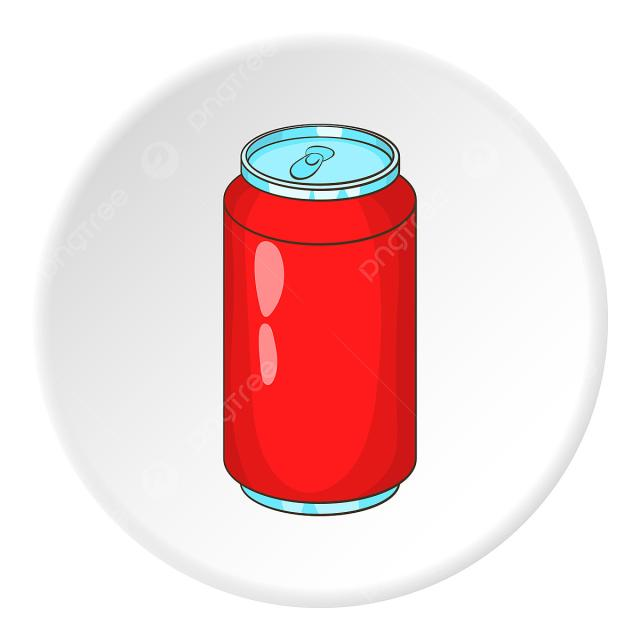soda_can: (209, 109, 430, 529)
